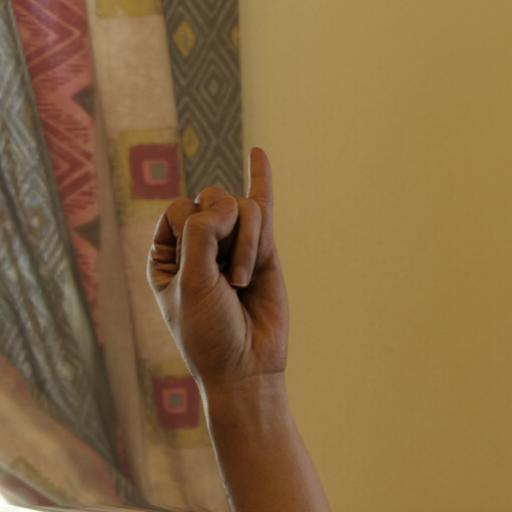I: (137, 139, 306, 415)
